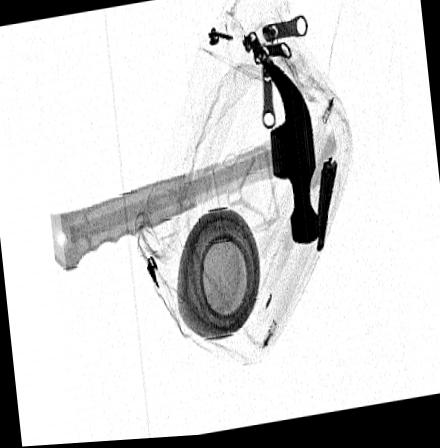Hammer: (47, 60, 321, 274)
